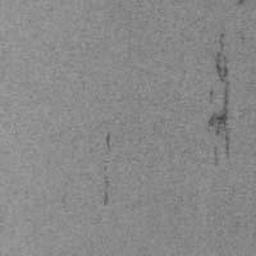Inclusion: (207, 29, 234, 160), (106, 131, 113, 152), (104, 191, 110, 206)
